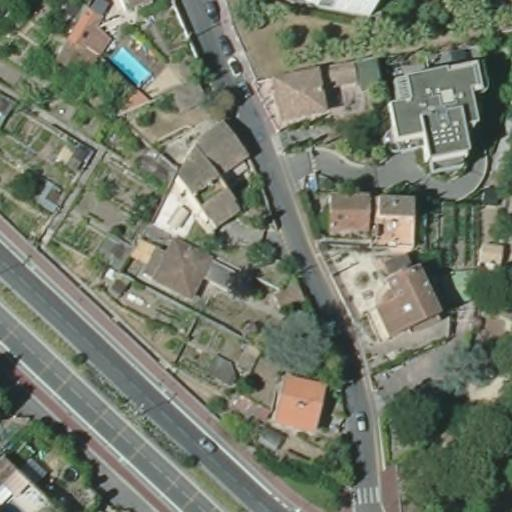pool: (112, 46, 151, 86)
